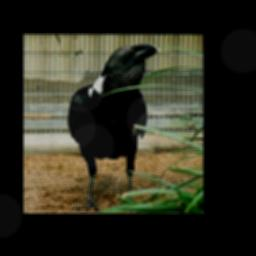Crow: (67, 42, 162, 212)
